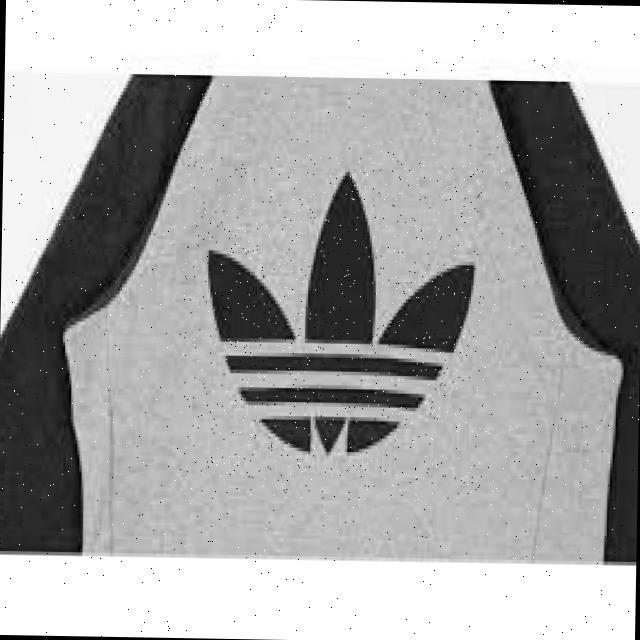Adidas: (179, 155, 487, 502)
